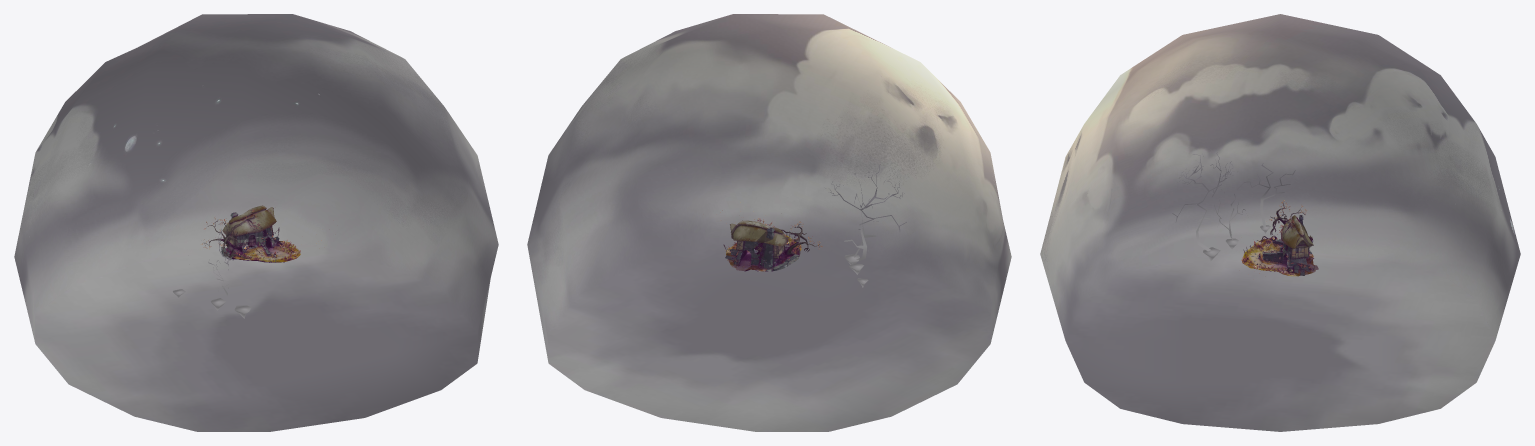
3 renders of one model, left to right at view 1: azimuth 30°, elevation 25°; view 2: azimuth 150°, elevation 25°; view 3: azimuth 270°, elevation 25°, orthographic.
Parts seen in each view (by area): view 1: fondo, suelo, tejado, piedra, vegetacion; view 2: fondo, piedra, tejado, suelo; view 3: fondo, suelo, piedra, tejado, vegetacion.
Part boxes in pixels (x1,y1,x2,y2): fondo: (14, 14, 498, 431); suelo: (204, 214, 300, 262); tejado: (222, 205, 276, 236); piedra: (221, 212, 283, 259); vegetacion: (201, 209, 321, 261); fondo: (527, 14, 1011, 431); piedra: (725, 227, 798, 271); tejado: (730, 220, 788, 246); suelo: (726, 224, 819, 271); fondo: (1040, 14, 1520, 431); suelo: (1242, 203, 1318, 276); piedra: (1251, 215, 1312, 275); tejado: (1281, 215, 1313, 248); vegetacion: (1241, 200, 1312, 275).
Bounding box in the file's own units: 63.76 × 44.61 × 63.76.
Materials: 10 (8 with a texture image).
